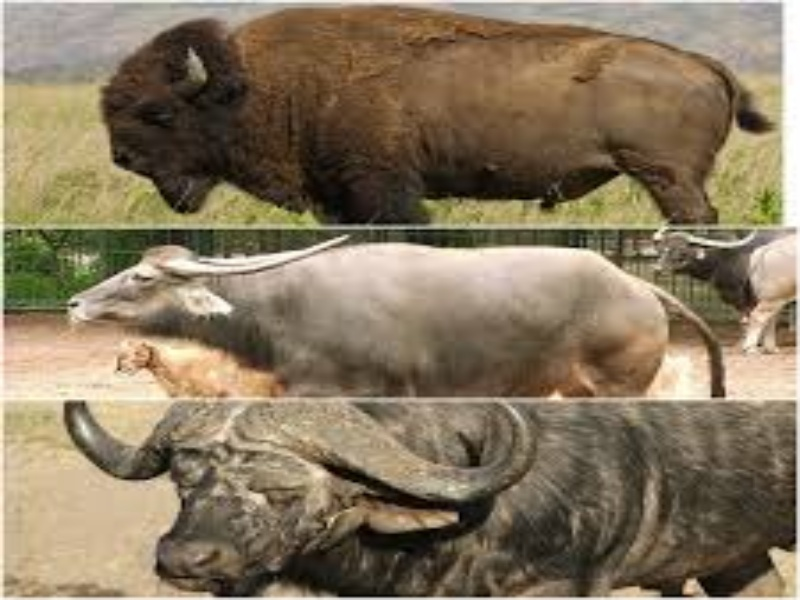buffalo: (59, 230, 731, 398)
